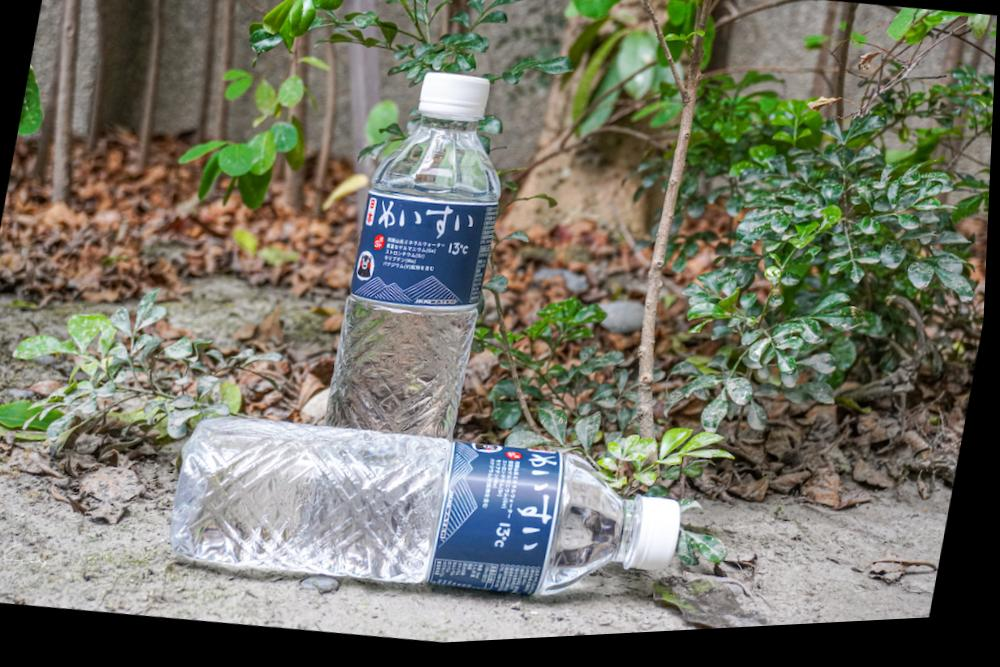plastic: (160, 384, 696, 631), (320, 59, 525, 445)
